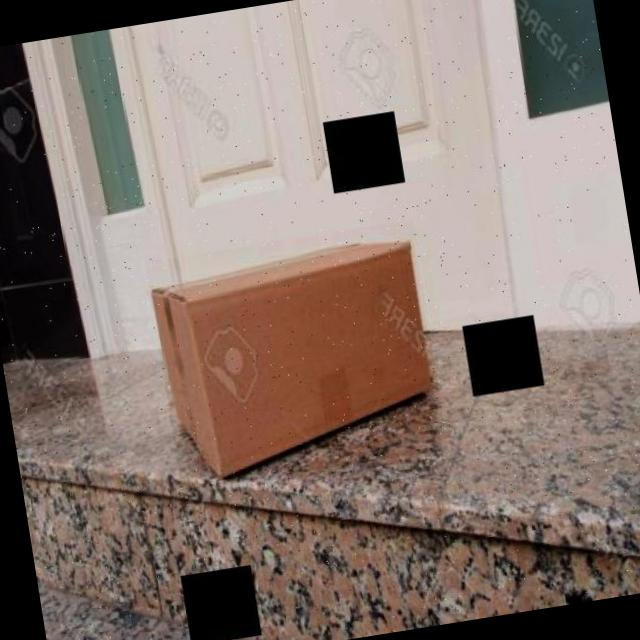box: (146, 220, 448, 491)
